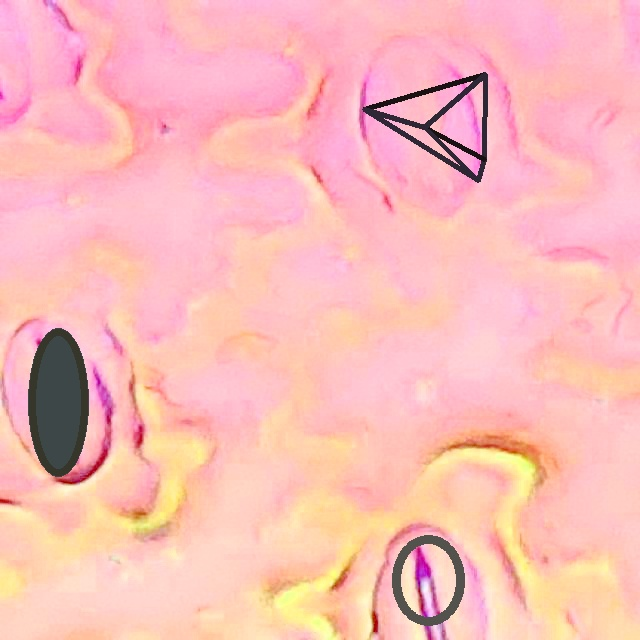close: (362, 73, 485, 181)
open: (28, 328, 88, 476), (391, 535, 465, 625)
